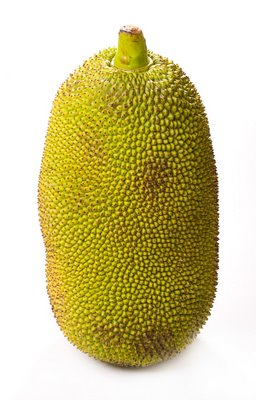jackfruit: (38, 25, 219, 368)
